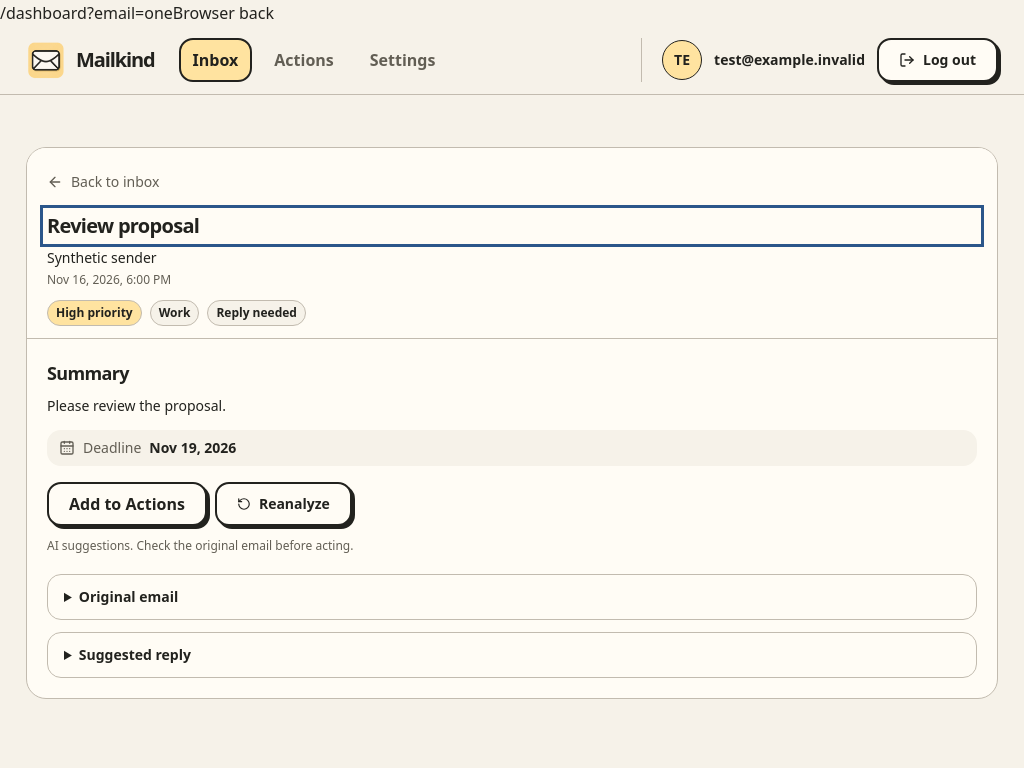
Test: retains successful results when forced reanalysis fails
Click the button "Reanalyze".
click(283, 504)  # box [215, 482, 352, 526]
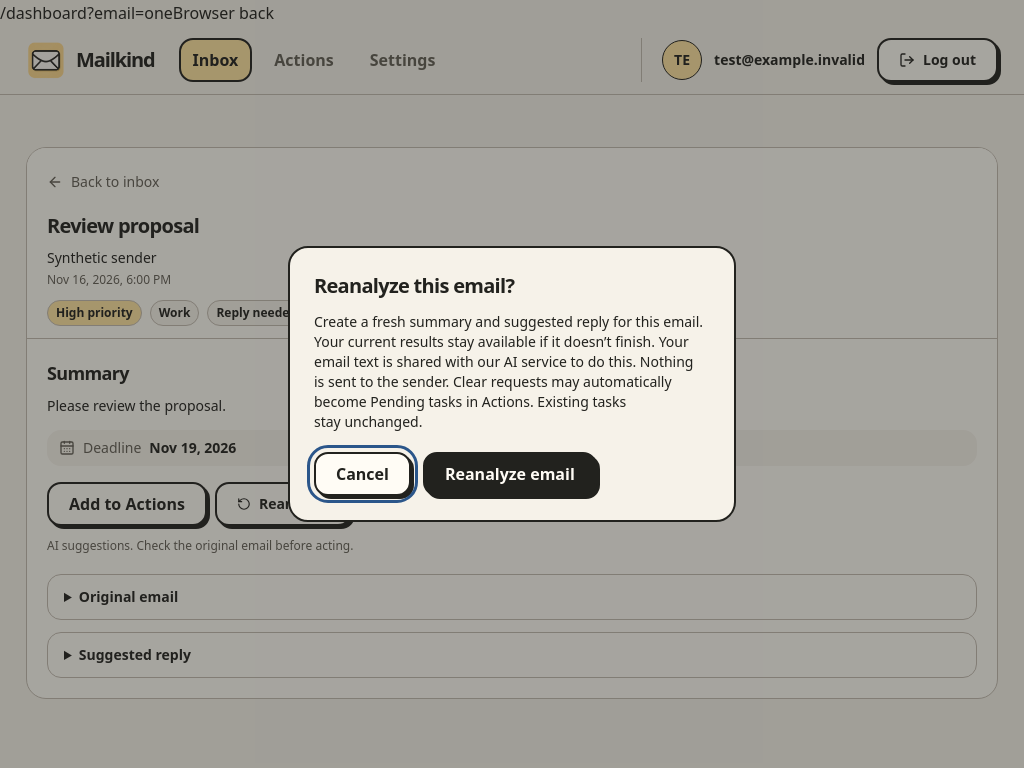
Click the button "Reanalyze email".
click(510, 474)  # box [423, 452, 597, 496]
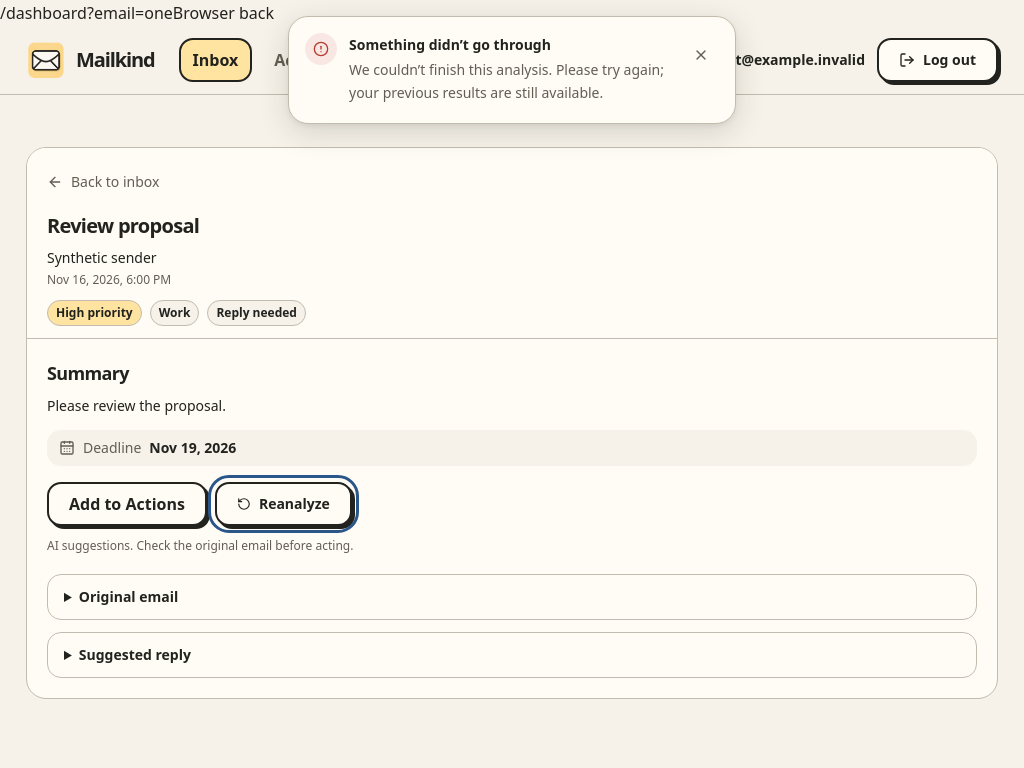
Expected: the element "Review proposal" shows "Please review the proposal.", [47, 396, 226, 415]
Result: the text "Please try again; your previous results are still available" is shown at [349, 60, 664, 102]
